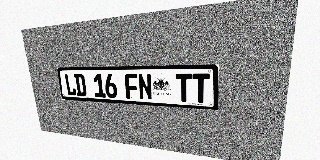1: (92, 74, 106, 98)
6: (104, 74, 118, 98)
D: (74, 74, 87, 97)
F: (124, 74, 139, 99)
L: (64, 74, 77, 96)
N: (138, 74, 153, 100)
T: (192, 73, 210, 103), (176, 73, 192, 102)
